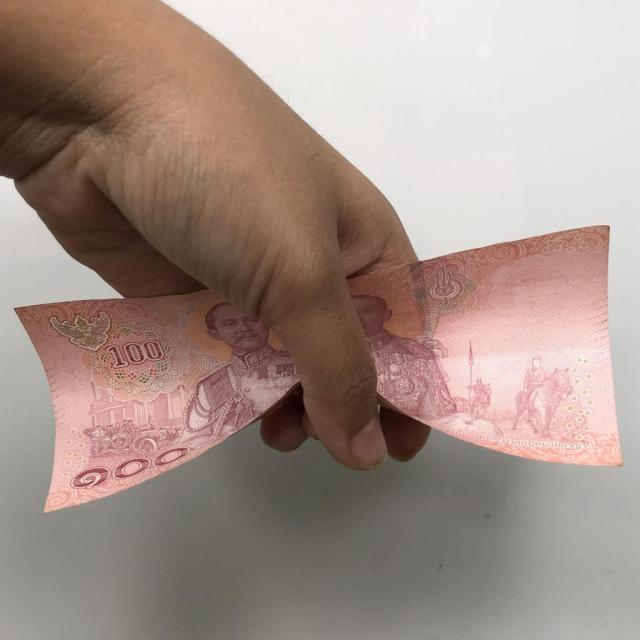THAI100: (348, 226, 624, 468), (13, 291, 301, 513)
